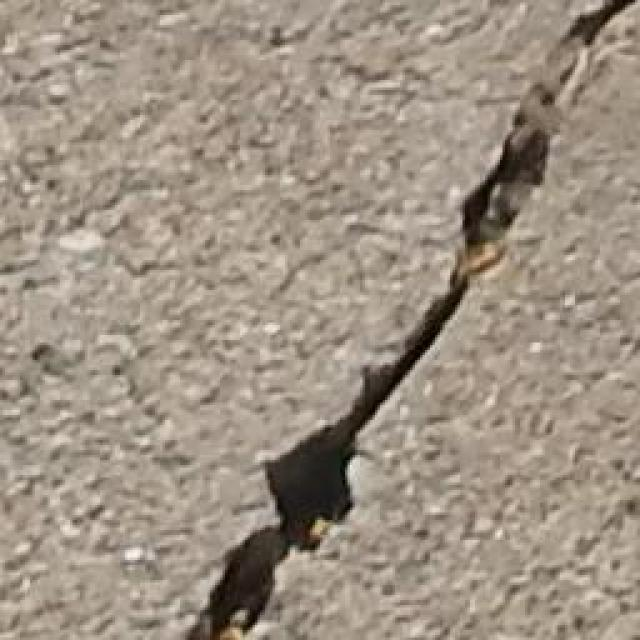concrete-crack: (169, 0, 638, 640)
